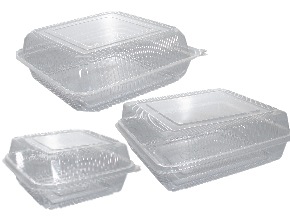PlasticBox: (14, 10, 209, 112), (1, 128, 141, 210)
